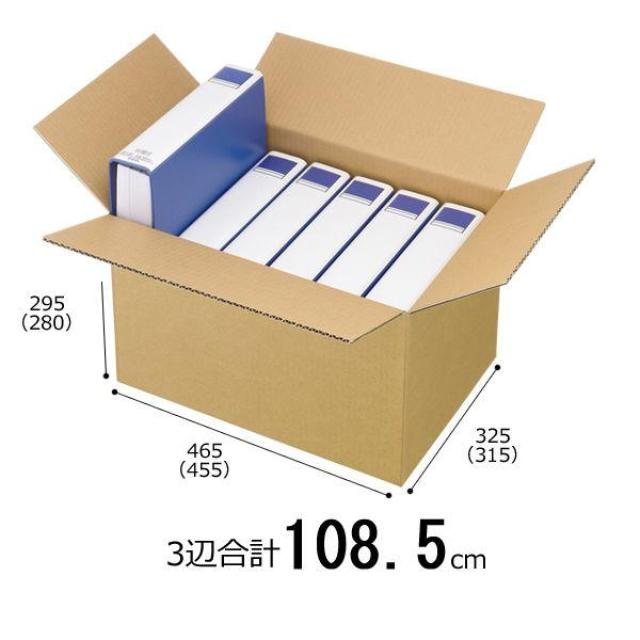box: (52, 26, 581, 490)
